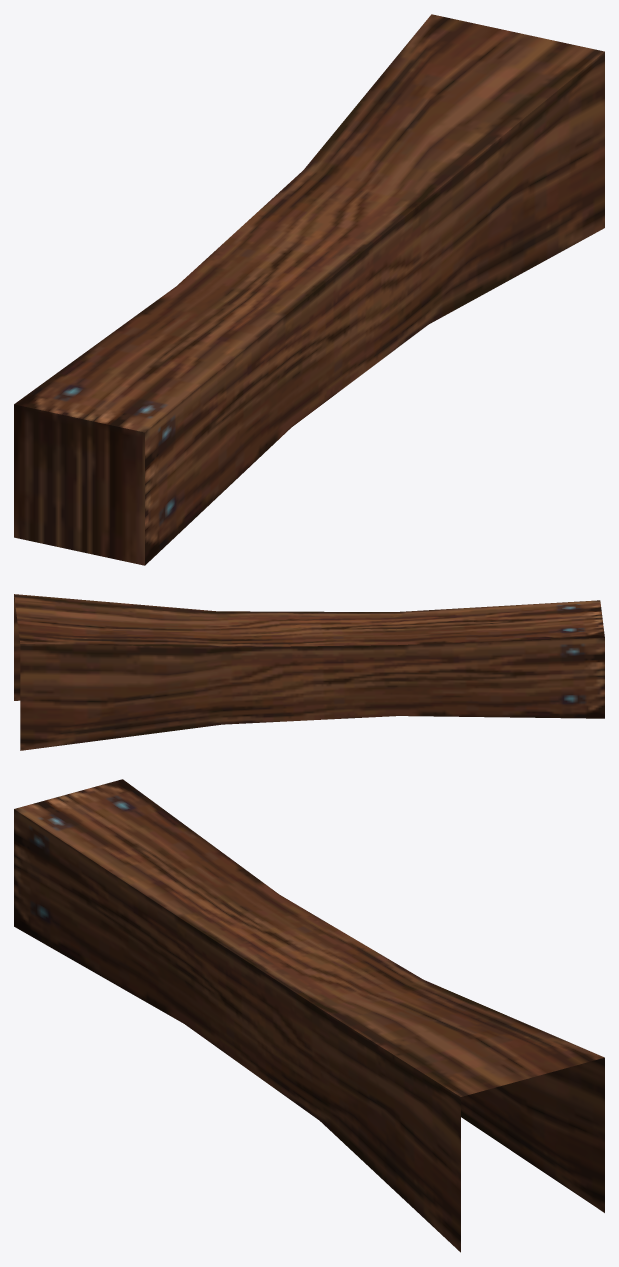
Rendered from OVERHILL_A_01_POST32.fbx.
3 renders of one model, top to bottom at view 1: azimuth 30°, elevation 25°; view 2: azimuth 150°, elevation 25°; view 3: azimuth 270°, elevation 25°, orthographic. The views are drawn at different scales.
Visible parts, largest first — view 1: OVERHILL_A_01_POST32; view 2: OVERHILL_A_01_POST32; view 3: OVERHILL_A_01_POST32.
Boxes of the visible parts, bbox=[...] form: OVERHILL_A_01_POST32: bbox=[14, 14, 604, 565]; OVERHILL_A_01_POST32: bbox=[14, 594, 604, 750]; OVERHILL_A_01_POST32: bbox=[14, 779, 604, 1252].
Bounding box in the file's own units: 19958 × 4299 × 14791.
1 material, 1 textured.
